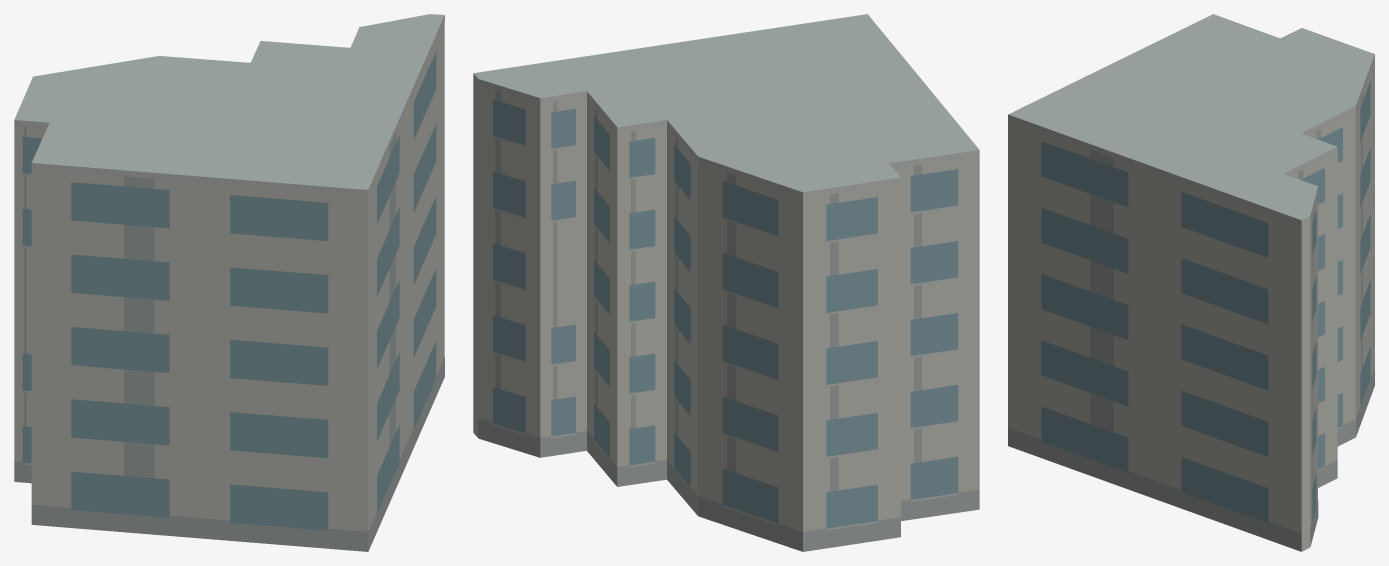
File: survey-upis-32619116.glb
3 renders of one model, left to right at view 1: azimuth 30°, elevation 25°; view 2: azimuth 150°, elevation 25°; view 3: azimuth 270°, elevation 25°, orthographic. The views are drawn at different scales.
Parts seen in each view (by area): view 1: survey-upis-32619116.tmp; view 2: survey-upis-32619116.tmp; view 3: survey-upis-32619116.tmp.
Part boxes in pixels (left/top/right/bottom): survey-upis-32619116.tmp: left=14, top=14, right=444, bottom=551; survey-upis-32619116.tmp: left=473, top=14, right=979, bottom=551; survey-upis-32619116.tmp: left=1008, top=14, right=1374, bottom=551.
Bounding box in the file's own units: 19.22 × 14.4 × 14.44.
